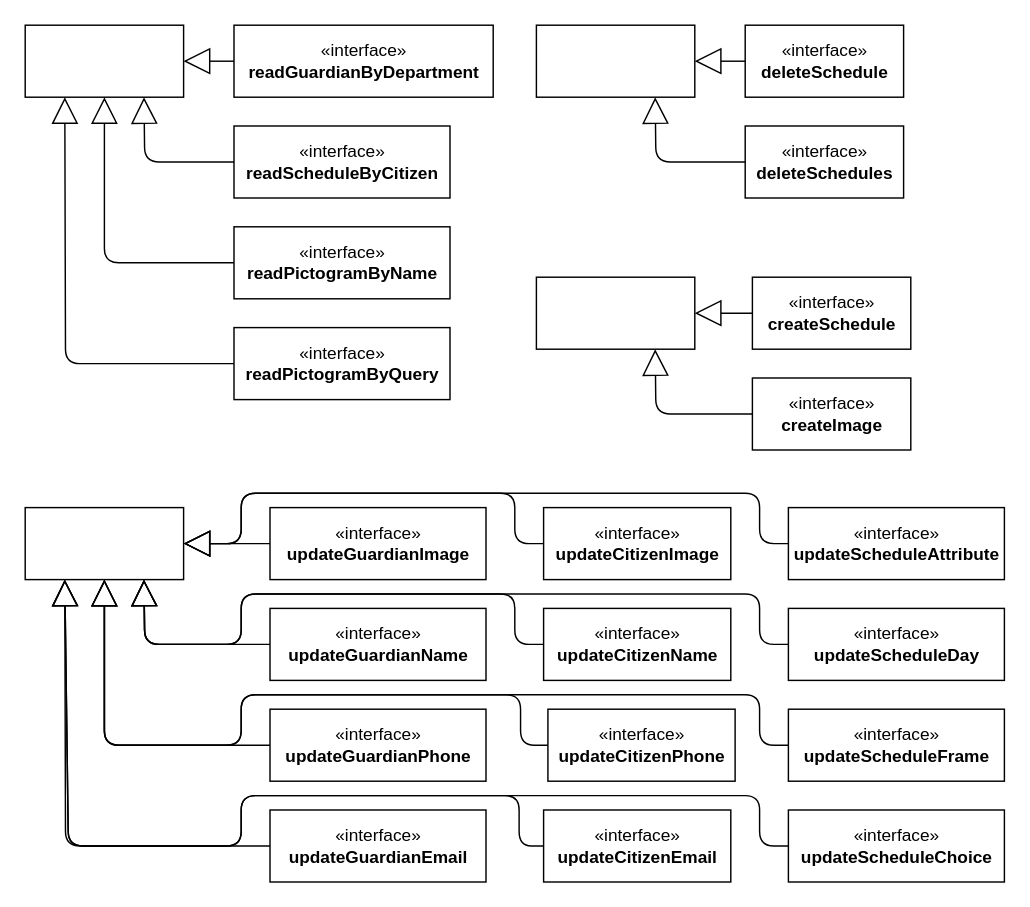
The diagram is 1030 pixels wide and 907 high, and some of its shapes have lost their labels. Each missing label, with the box of its shape:
«interface» Create: (535, 276, 695, 349)
«interface» Delete: (535, 24, 695, 97)
«interface» Read: (24, 24, 184, 97)
«interface» Update: (24, 506, 184, 580)
